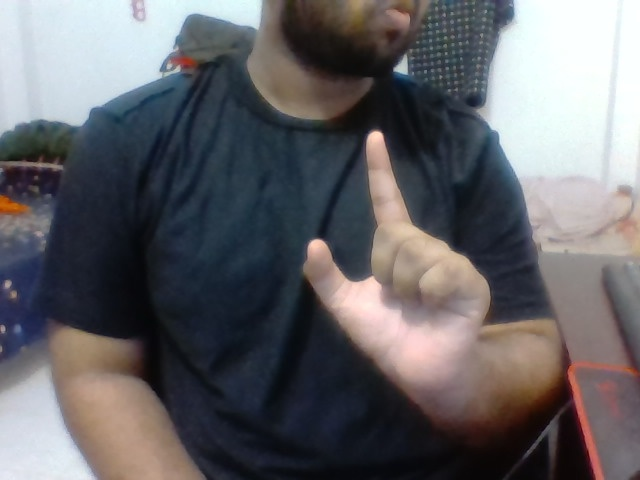J: (278, 124, 495, 380)
